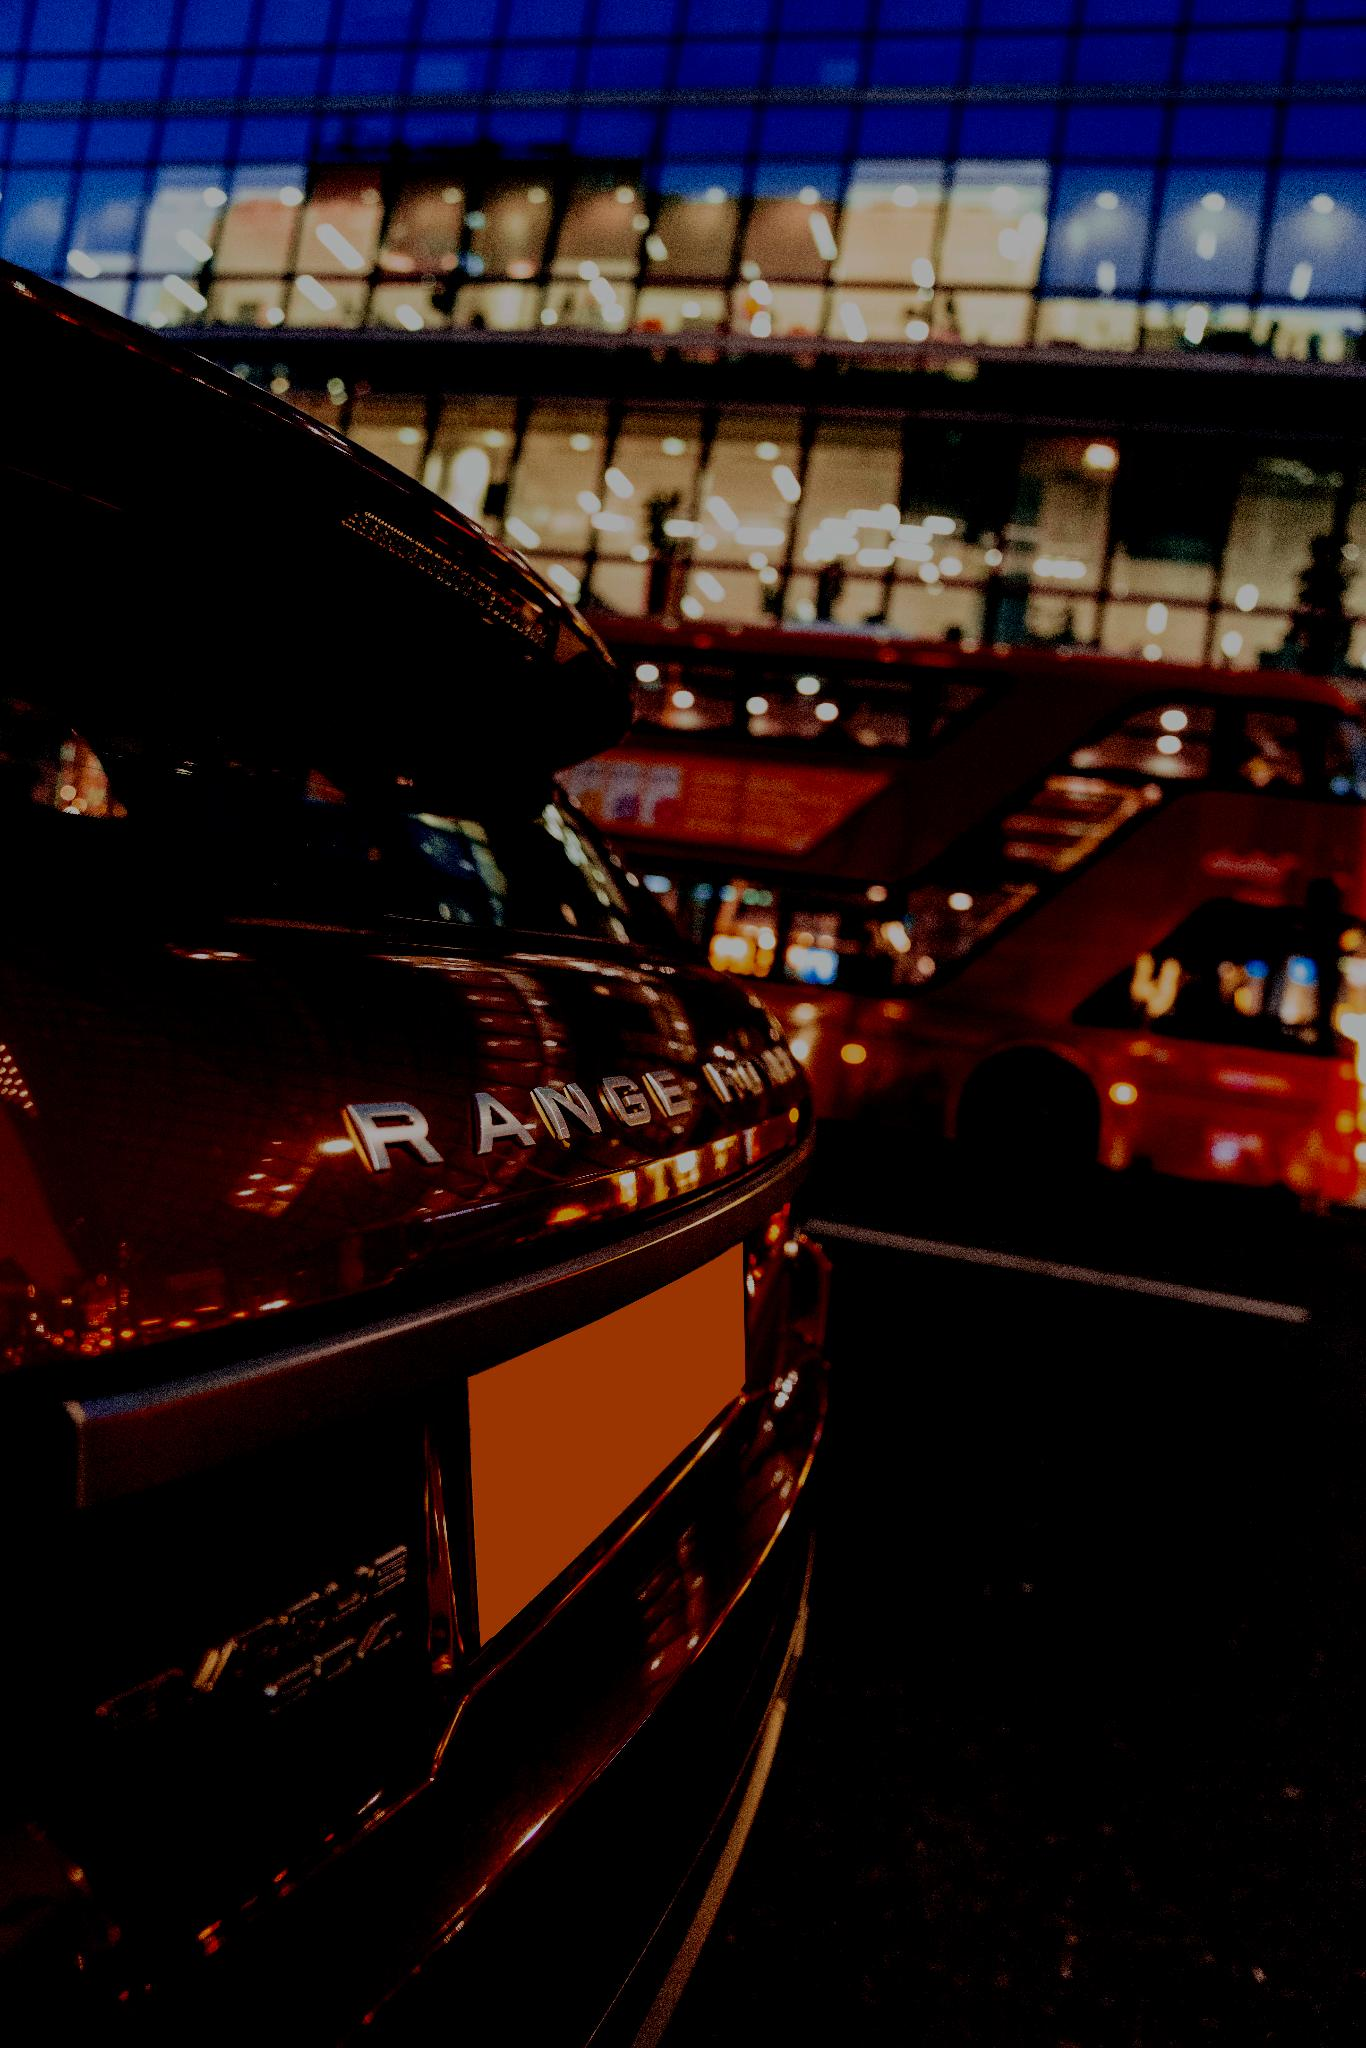range rover: (323, 1012, 820, 1179)
